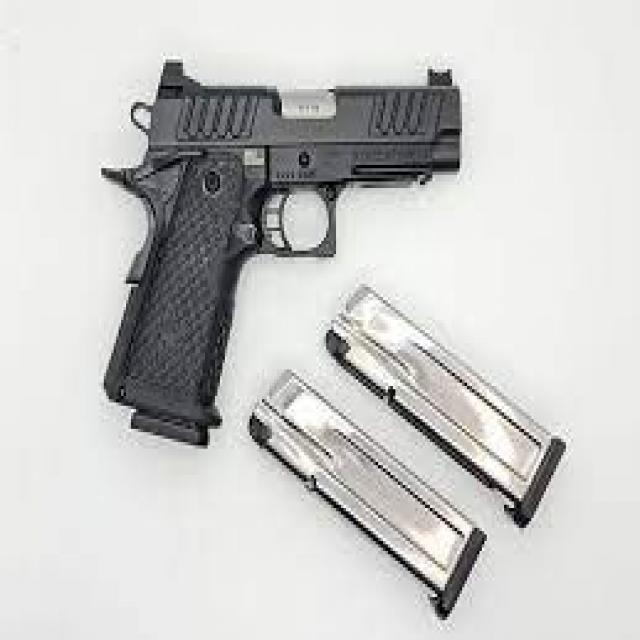semi automatic: (91, 39, 584, 630)
